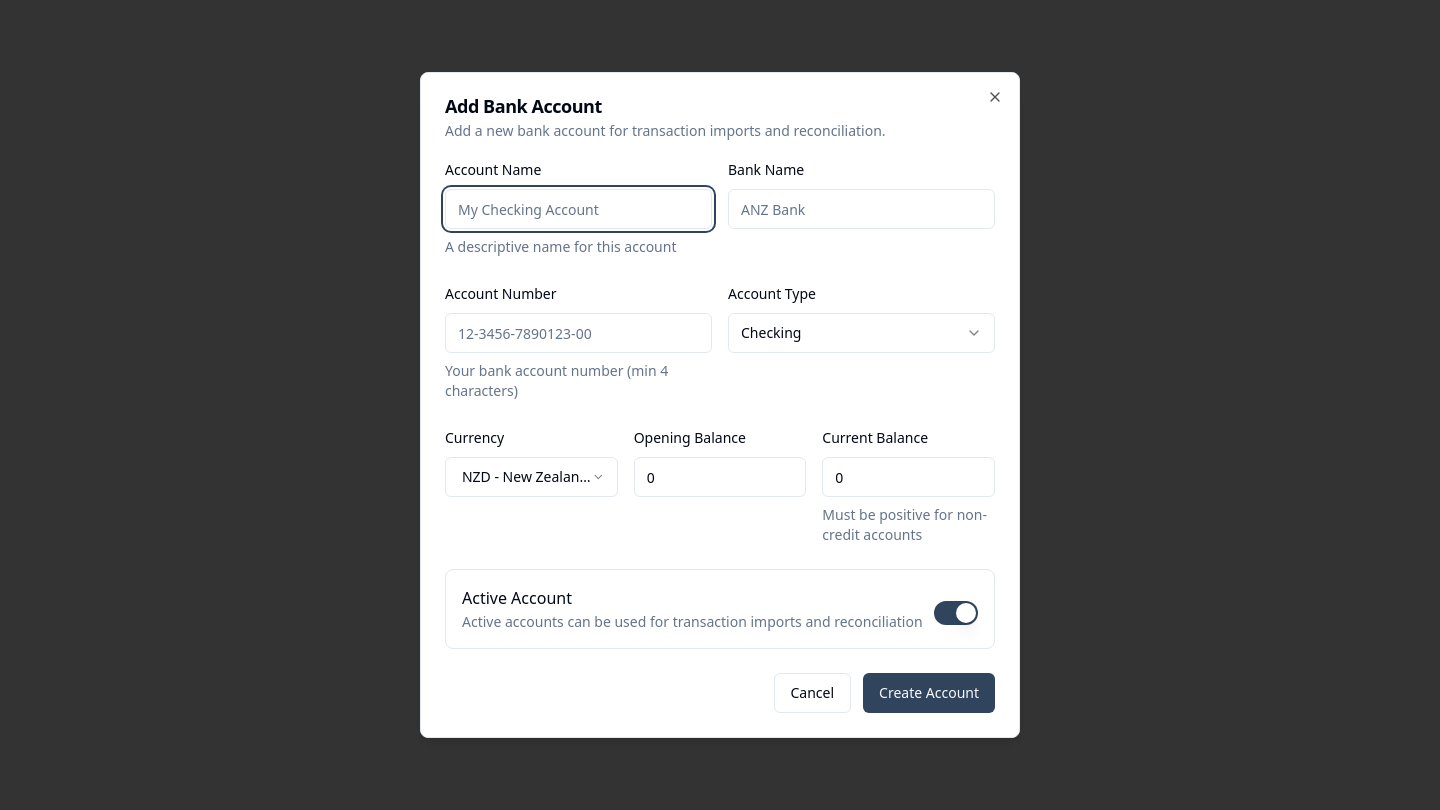
Test: BankAccountDialog › should validate required fields
This screenshot has width=1440, height=810.
What coordinates should you click on to do the following:
click the button "Create Account"
I would click on:
 (929, 693)
Its box is top-left (863, 673), bottom-right (995, 713).
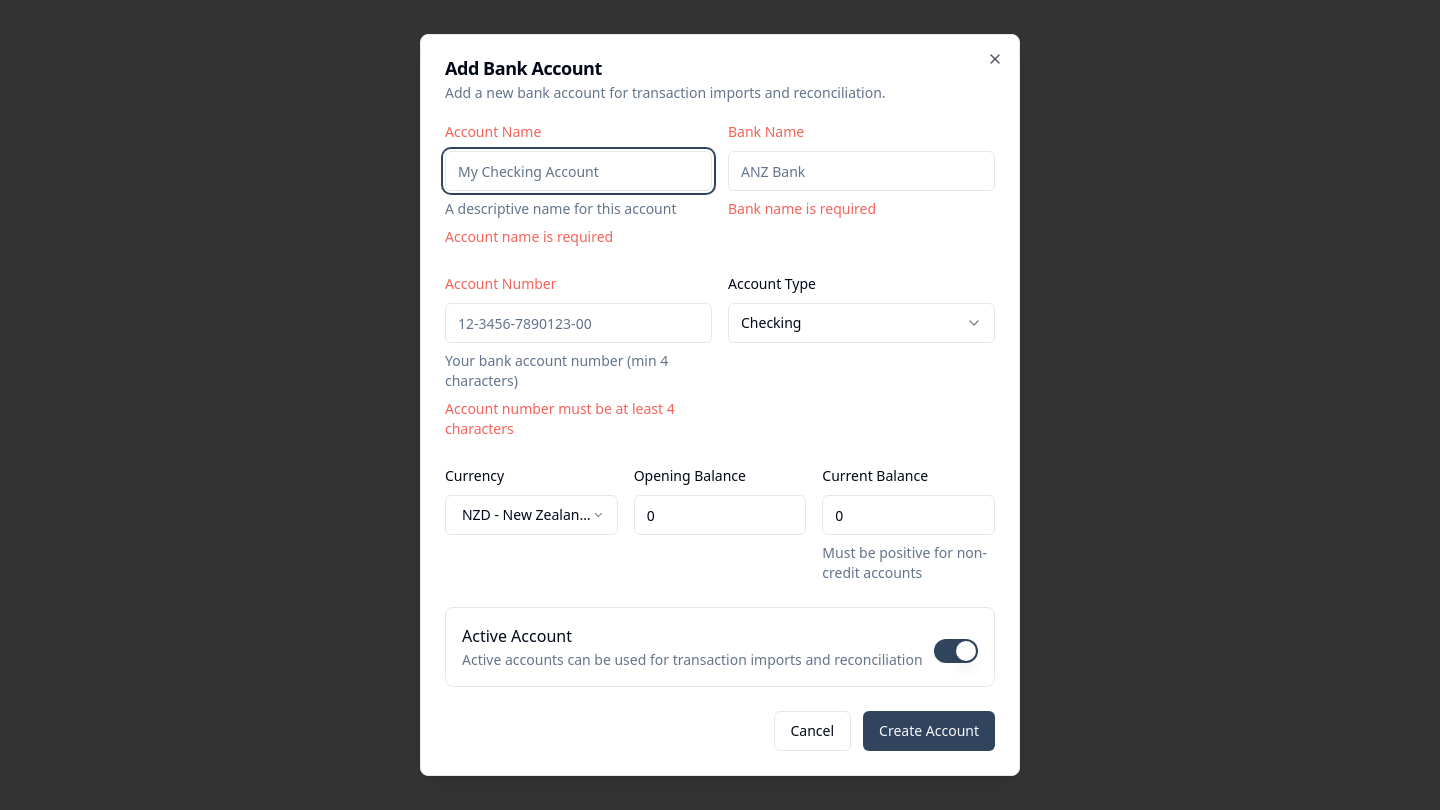
expect the text "Account name is required" is shown: met, box top-left (445, 227), bottom-right (613, 246)
expect the text "Account number must be at least 4 characters" is shown: met, box top-left (445, 399), bottom-right (712, 439)
expect the text "Bank name is required" is shown: met, box top-left (728, 199), bottom-right (876, 218)
